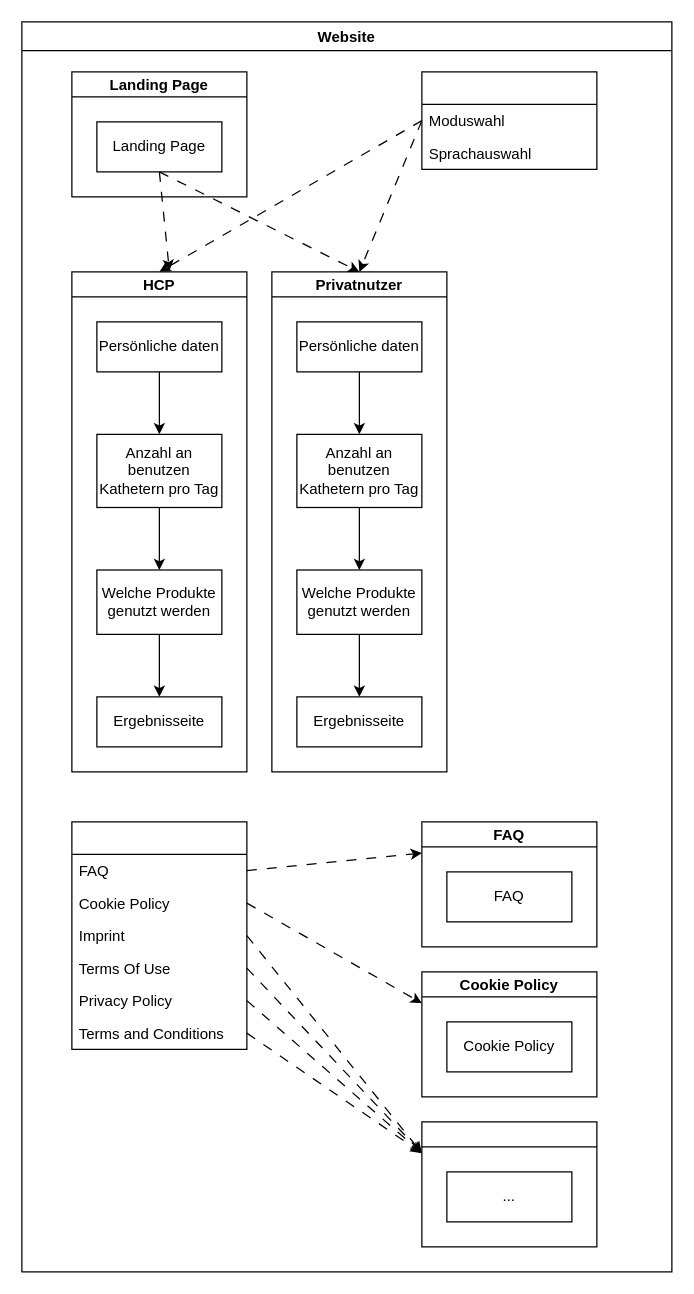
The diagram is 694 pixels wide and 1294 high, and some of its shapes have lost their labels. The box of each missing label's shape, as (x1, y1, x2, y2) in pixels:
Exernal Site: (421, 1121, 597, 1247)
Footer: (71, 821, 247, 1049)
Header: (421, 71, 597, 169)
